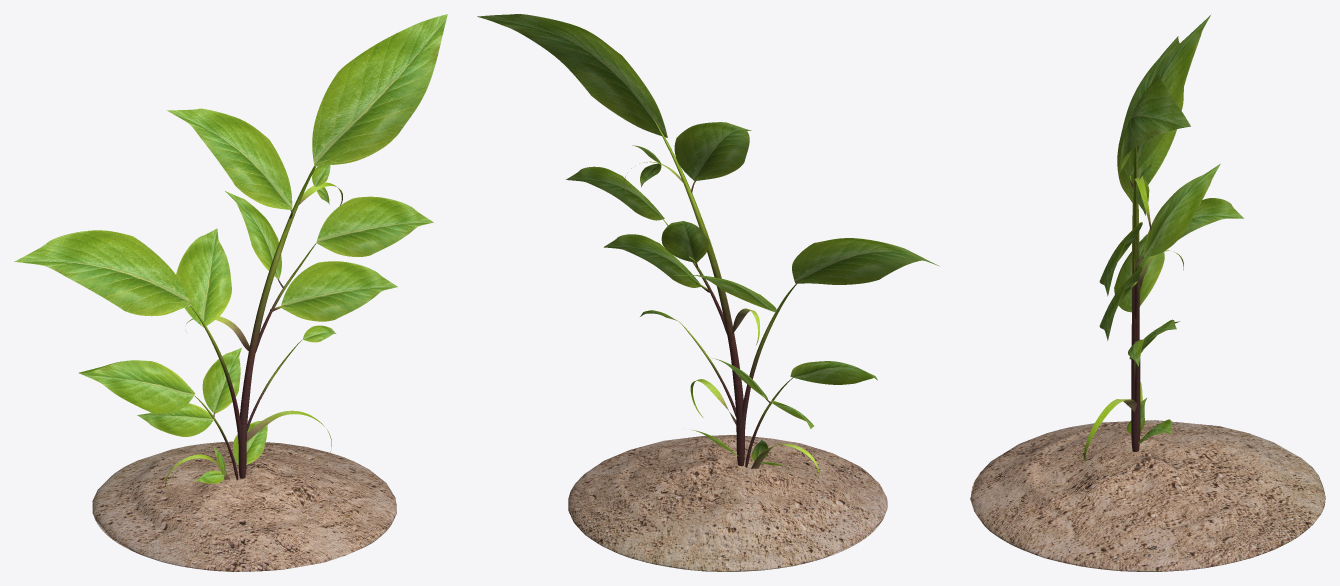
Rendered from leaf.obj.
3 views of the same model, side by side, from view 1: azimuth 30°, elevation 25°; view 2: azimuth 150°, elevation 25°; view 3: azimuth 270°, elevation 25° (orthographic). The views are drawn at different scales.
Parts seen in each view (by area): view 1: Ground_Dirt_Mesh.029, new_plant_1:planarTrimmedSurface1_Mesh.028, new_plant_1:planarTrimmedSurface3_Mesh.017, new_plant_1:planarTrimmedSurface2_Mesh.019, new_plant_1:planarTrimmedSurface5_Mesh.014, new_plant_1:planarTrimmedSurface4_Mesh.016, new_plant_1:planarTrimmedSurface9_Mesh.008, new_plant_1:planarTrimmedSurface14_Mesh.002, new_plant_1:pCube1_Mesh.027, new_plant_1:planarTrimmedSurface6_Mesh.012, new_plant_1:planarTrimmedSurface13_Mesh.004, new_plant_1:planarTrimmedSurface12_Mesh.005 (+2 smaller); view 2: Ground_Dirt_Mesh.029, new_plant_1:planarTrimmedSurface1_Mesh.028, new_plant_1:planarTrimmedSurface3_Mesh.017, new_plant_1:planarTrimmedSurface2_Mesh.019, new_plant_1:pCube1_Mesh.027, new_plant_1:planarTrimmedSurface4_Mesh.016, new_plant_1:planarTrimmedSurface5_Mesh.014, new_plant_1:planarTrimmedSurface9_Mesh.008, new_plant_1:planarTrimmedSurface6_Mesh.012, new_plant_1:planarTrimmedSurface14_Mesh.002, new_plant_1:pCube2_Mesh.026; view 3: Ground_Dirt_Mesh.029, new_plant_1:planarTrimmedSurface1_Mesh.028, new_plant_1:planarTrimmedSurface6_Mesh.012, new_plant_1:planarTrimmedSurface2_Mesh.019, new_plant_1:planarTrimmedSurface3_Mesh.017, new_plant_1:pCube1_Mesh.027, new_plant_1:planarTrimmedSurface9_Mesh.008, new_plant_1:planarTrimmedSurface14_Mesh.002, new_plant_1:planarTrimmedSurface4_Mesh.016, new_plant_1:planarTrimmedSurface5_Mesh.014, new_plant_1:pPlane3_Mesh.021.
Part boxes in pixels (bbox=[...]): Ground_Dirt_Mesh.029: bbox=[92, 441, 396, 571]; new_plant_1:planarTrimmedSurface1_Mesh.028: bbox=[312, 14, 447, 166]; new_plant_1:planarTrimmedSurface3_Mesh.017: bbox=[14, 230, 191, 316]; new_plant_1:planarTrimmedSurface2_Mesh.019: bbox=[167, 108, 292, 209]; new_plant_1:planarTrimmedSurface5_Mesh.014: bbox=[281, 261, 397, 321]; new_plant_1:planarTrimmedSurface4_Mesh.016: bbox=[316, 196, 433, 256]; new_plant_1:planarTrimmedSurface9_Mesh.008: bbox=[79, 360, 195, 413]; new_plant_1:planarTrimmedSurface14_Mesh.002: bbox=[176, 228, 231, 327]; new_plant_1:pCube1_Mesh.027: bbox=[238, 166, 315, 478]; new_plant_1:planarTrimmedSurface6_Mesh.012: bbox=[225, 191, 281, 278]; new_plant_1:planarTrimmedSurface13_Mesh.004: bbox=[202, 347, 241, 413]; new_plant_1:planarTrimmedSurface12_Mesh.005: bbox=[137, 403, 213, 436]; Ground_Dirt_Mesh.029: bbox=[568, 435, 887, 571]; new_plant_1:planarTrimmedSurface1_Mesh.028: bbox=[477, 14, 667, 137]; new_plant_1:planarTrimmedSurface3_Mesh.017: bbox=[792, 238, 939, 284]; new_plant_1:planarTrimmedSurface2_Mesh.019: bbox=[674, 122, 751, 180]; new_plant_1:pCube1_Mesh.027: bbox=[652, 117, 744, 466]; new_plant_1:planarTrimmedSurface4_Mesh.016: bbox=[566, 166, 664, 220]; new_plant_1:planarTrimmedSurface5_Mesh.014: bbox=[603, 234, 700, 287]; new_plant_1:planarTrimmedSurface9_Mesh.008: bbox=[790, 361, 877, 384]; new_plant_1:planarTrimmedSurface6_Mesh.012: bbox=[661, 221, 708, 262]; new_plant_1:planarTrimmedSurface14_Mesh.002: bbox=[673, 275, 776, 312]; new_plant_1:pCube2_Mesh.026: bbox=[742, 279, 801, 434]; Ground_Dirt_Mesh.029: bbox=[970, 420, 1325, 571]; new_plant_1:planarTrimmedSurface1_Mesh.028: bbox=[1119, 74, 1190, 174]; new_plant_1:planarTrimmedSurface6_Mesh.012: bbox=[1143, 163, 1220, 256]; new_plant_1:planarTrimmedSurface2_Mesh.019: bbox=[1129, 15, 1210, 176]; new_plant_1:planarTrimmedSurface3_Mesh.017: bbox=[1117, 36, 1183, 202]; new_plant_1:pCube1_Mesh.027: bbox=[1131, 147, 1140, 451]; new_plant_1:planarTrimmedSurface9_Mesh.008: bbox=[1114, 234, 1164, 312]; new_plant_1:planarTrimmedSurface14_Mesh.002: bbox=[1142, 198, 1243, 249]; new_plant_1:planarTrimmedSurface4_Mesh.016: bbox=[1099, 222, 1142, 296]; new_plant_1:planarTrimmedSurface5_Mesh.014: bbox=[1099, 267, 1142, 340]; new_plant_1:pPlane3_Mesh.021: bbox=[1083, 399, 1137, 463].
Size of the model in its own units: 0.2955 by 0.2775 by 0.1778.
6 materials, 6 textured.
